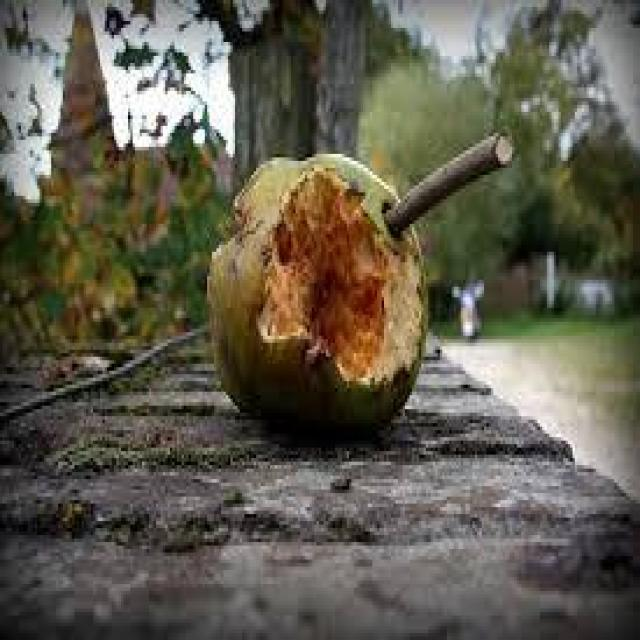maca: (205, 150, 428, 430)
